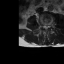CCS_normal: (45, 23, 47, 31)
LFS_normal: (48, 23, 50, 29)
LLS_stenosis: (47, 24, 48, 30)
RFS_stenosis: (41, 23, 43, 30)
RLS_normal: (43, 24, 45, 30)
